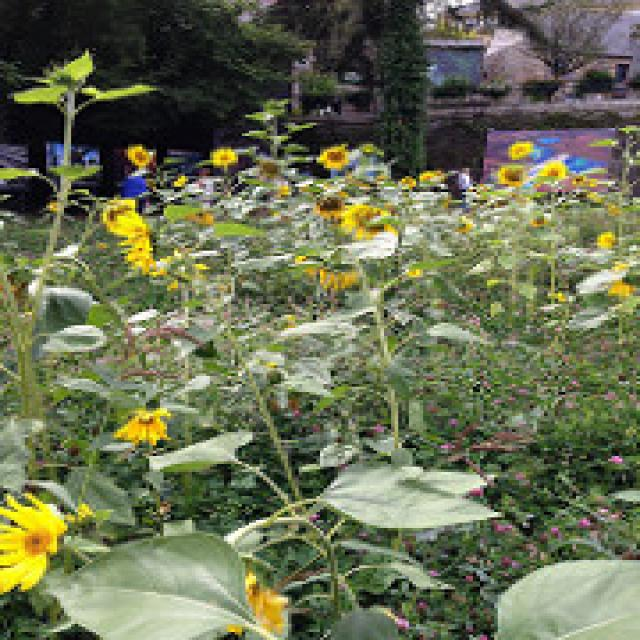sunflower: (0, 487, 71, 601), (107, 404, 174, 452), (350, 204, 407, 241), (119, 136, 169, 176), (96, 199, 149, 236), (316, 139, 366, 176), (492, 162, 532, 186), (208, 146, 244, 170), (535, 157, 567, 184), (314, 195, 346, 221), (507, 137, 542, 159)
